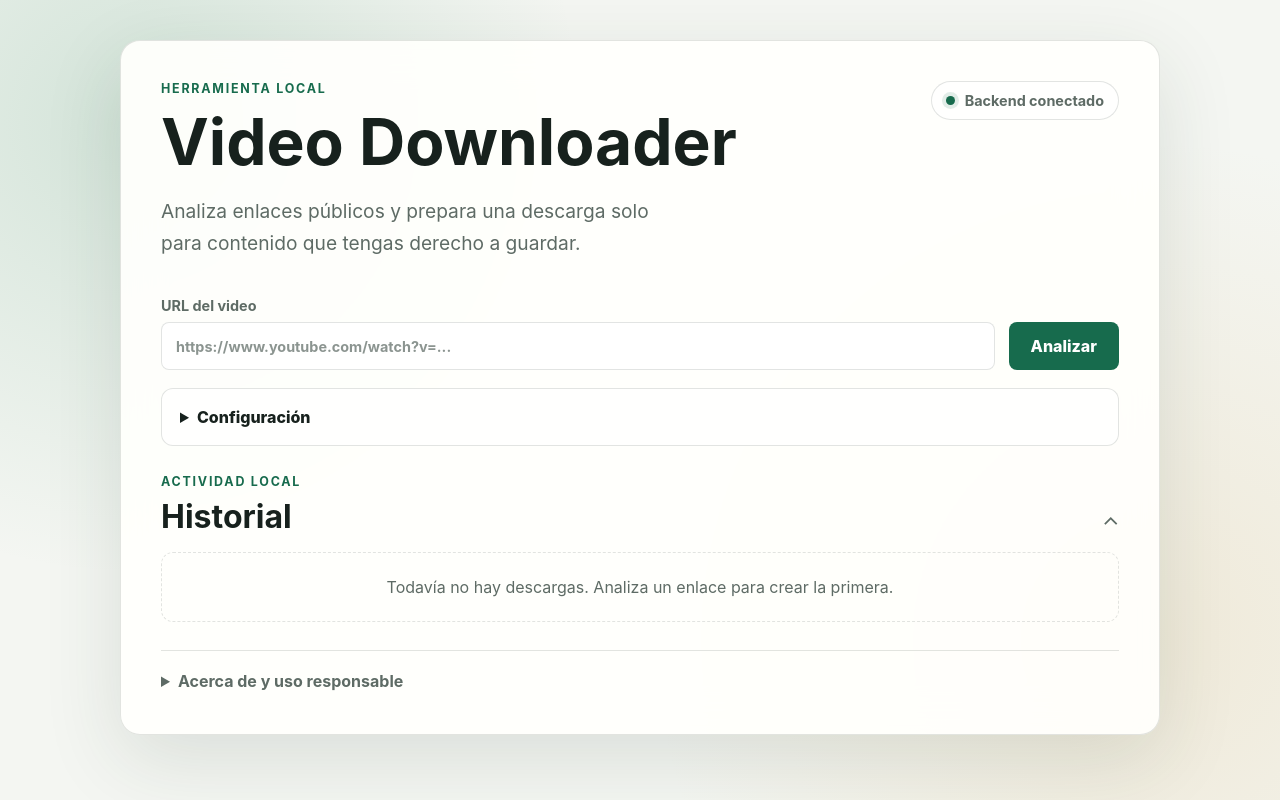
Test: App › requires the usage notice before creating a video download
The width and height of the screenshot is (1280, 800).
Type "https://youtu.be/abc123" into the field labelled "URL del video".
click(578, 346); type("https://youtu.be/abc123")  # box [161,322,995,370]
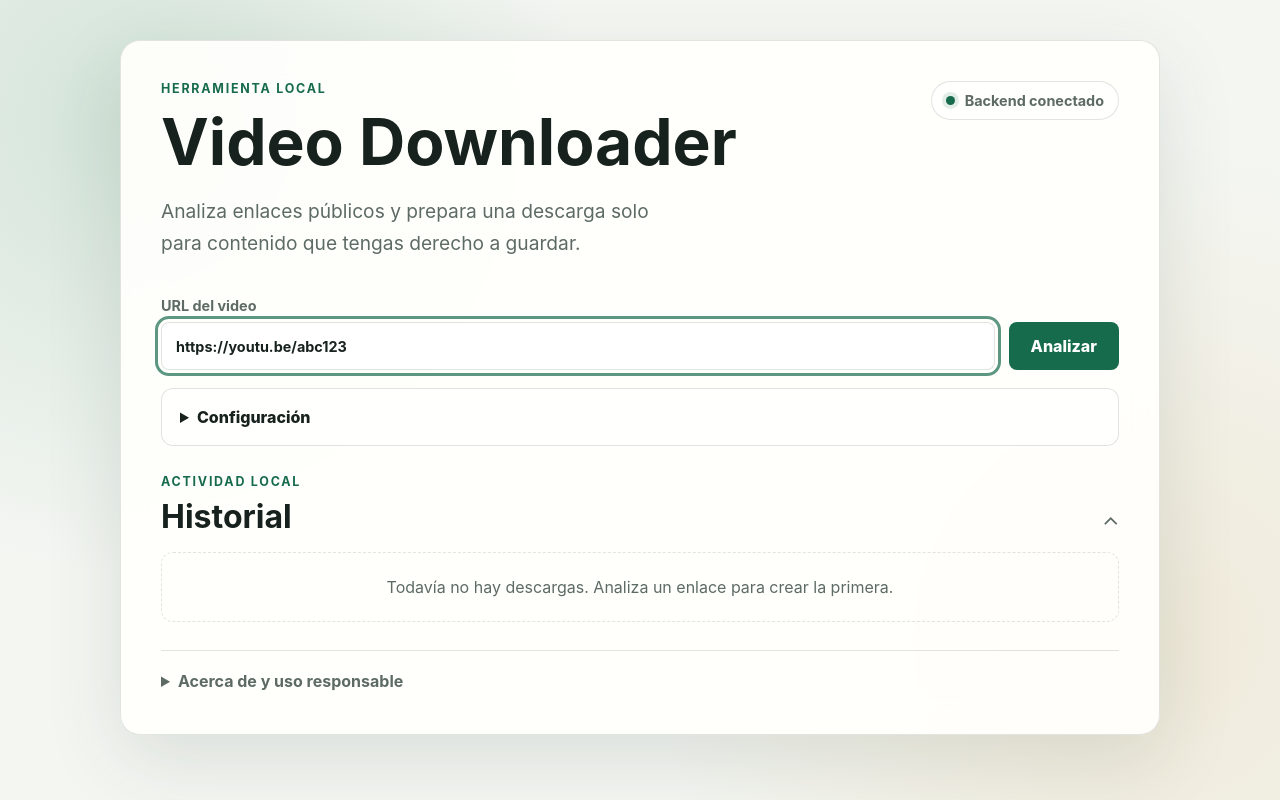
Click the button "Analizar".
click(1064, 346)  # box [1009,322,1119,370]
(page scrolled)
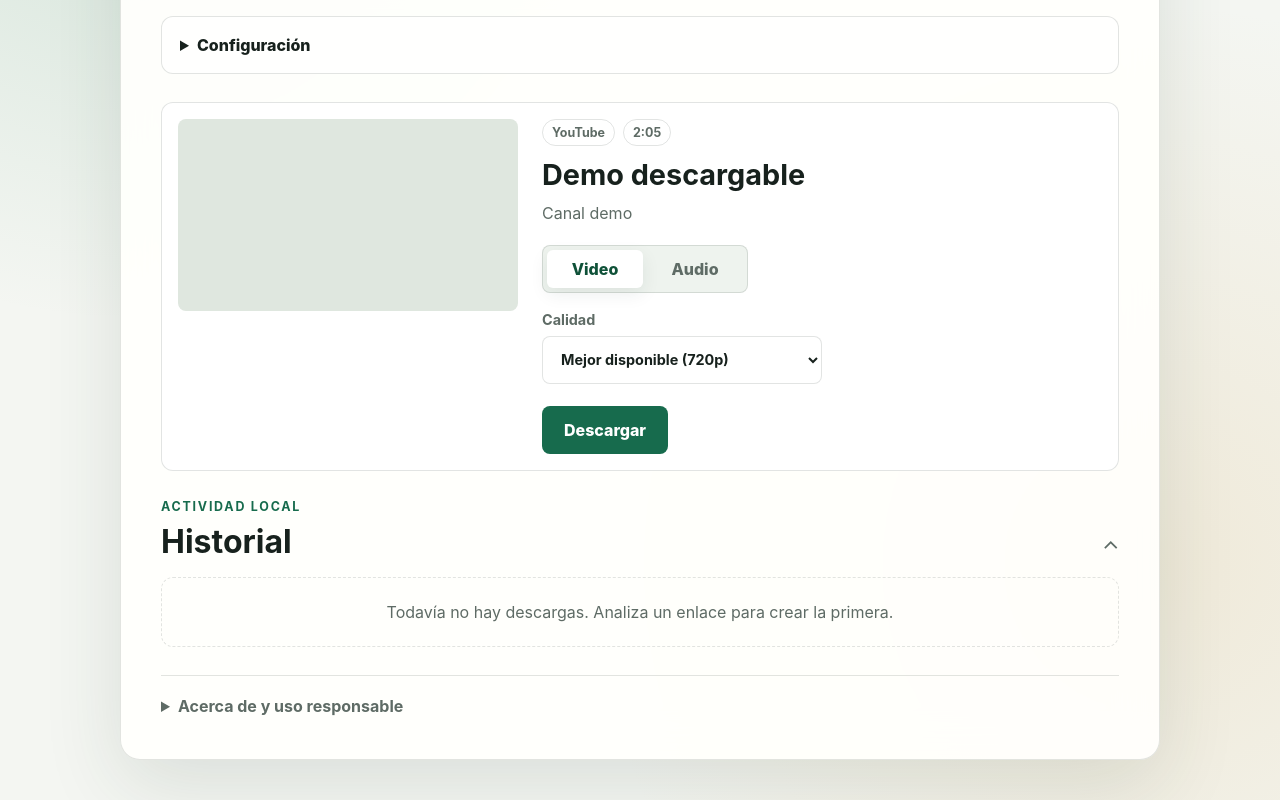
Expected: the heading "Demo descargable" is shown, [542,157,805,192]
Click the button "Descargar".
click(605, 430)  # box [542,406,668,454]
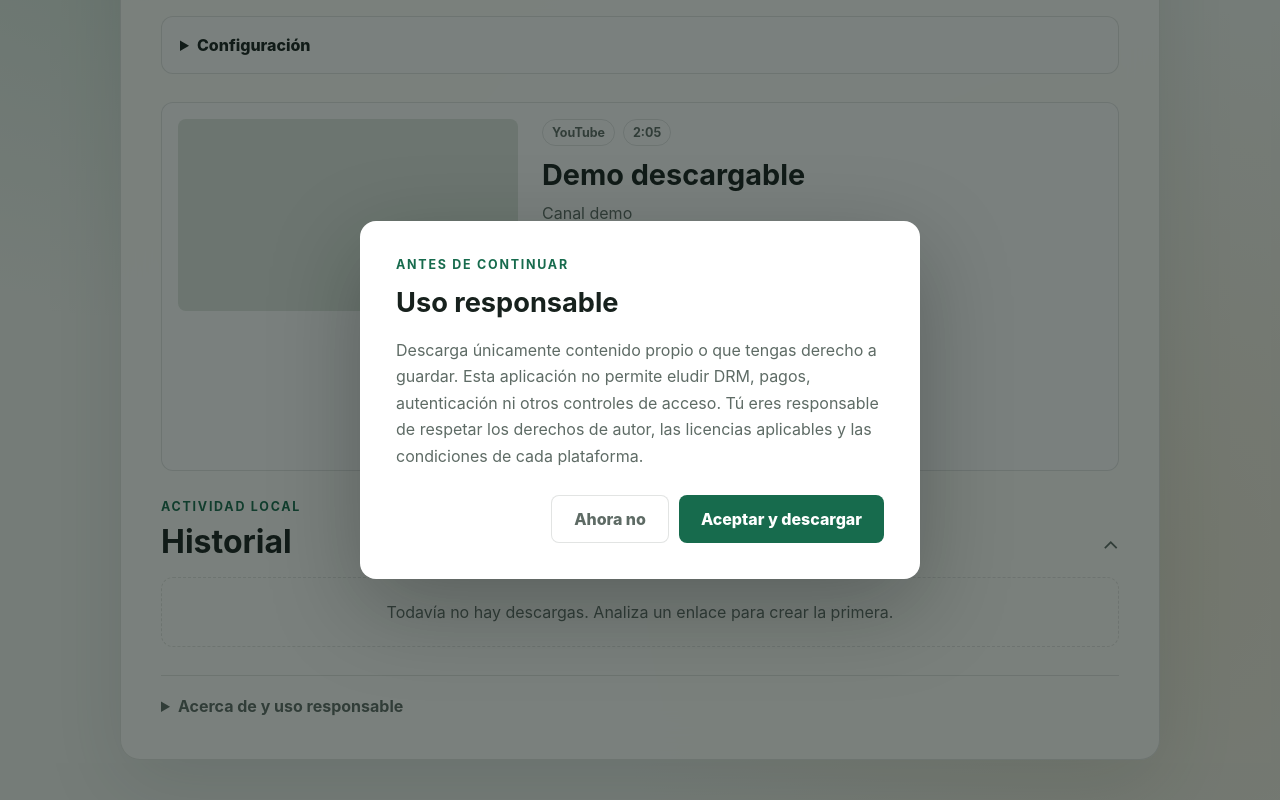
Expected: the dialog "Uso responsable" is shown, [360,221,920,579]
Click the button "Aceptar y descargar".
click(781, 519)  # box [679,495,884,543]
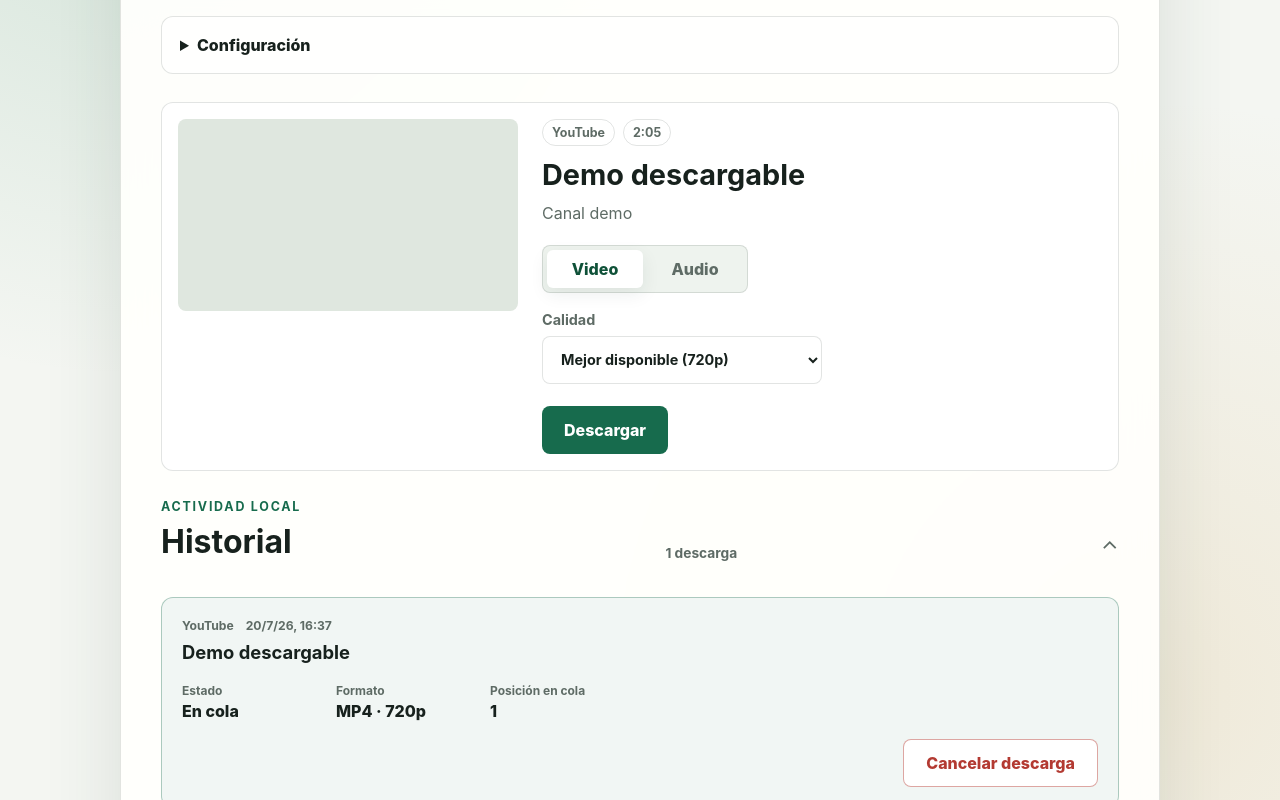
Expected: the text "En cola" is shown, [182,701,239,721]
Expected: the text "MP4 · 720p" is shown, [336,701,426,721]
